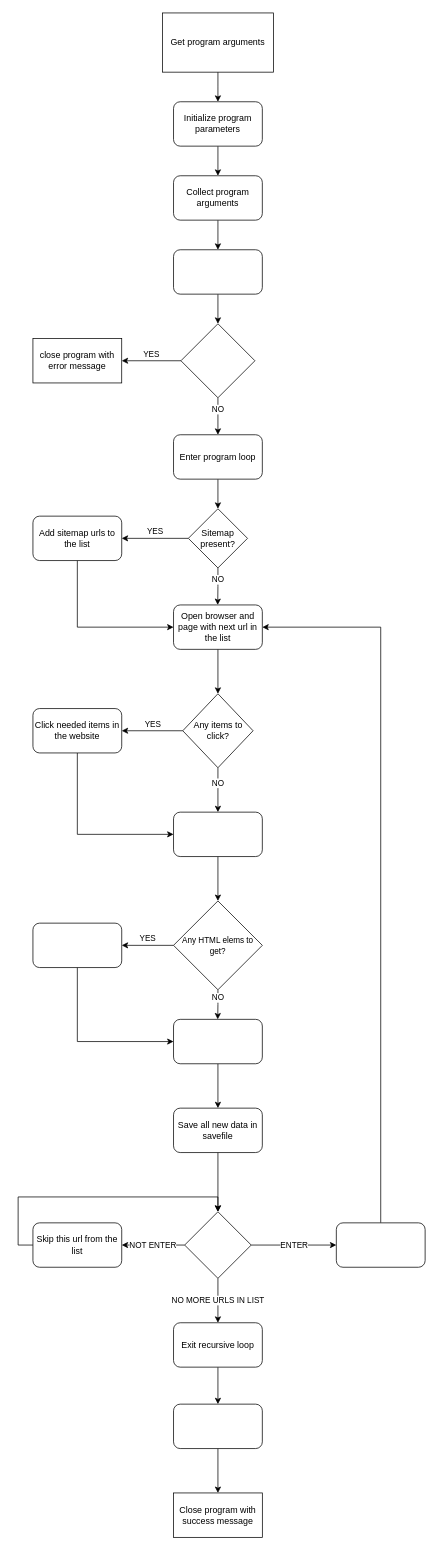
The diagram is 438 pixels wide and 1550 high, and some of its shapes have lost their labels. The centre of each missing label's shape, as x and y in pixels:
Check next url: point (217, 1244)
Configure different params from program arguments: point (217, 271)
errors in arguments?: point (217, 360)
Get HTML elements: point (77, 945)
Get new urls from the page: point (217, 1041)
Repeat with new link: point (380, 1244)
Save runtime evolving data: point (217, 1426)
Start reading the page: point (217, 834)
